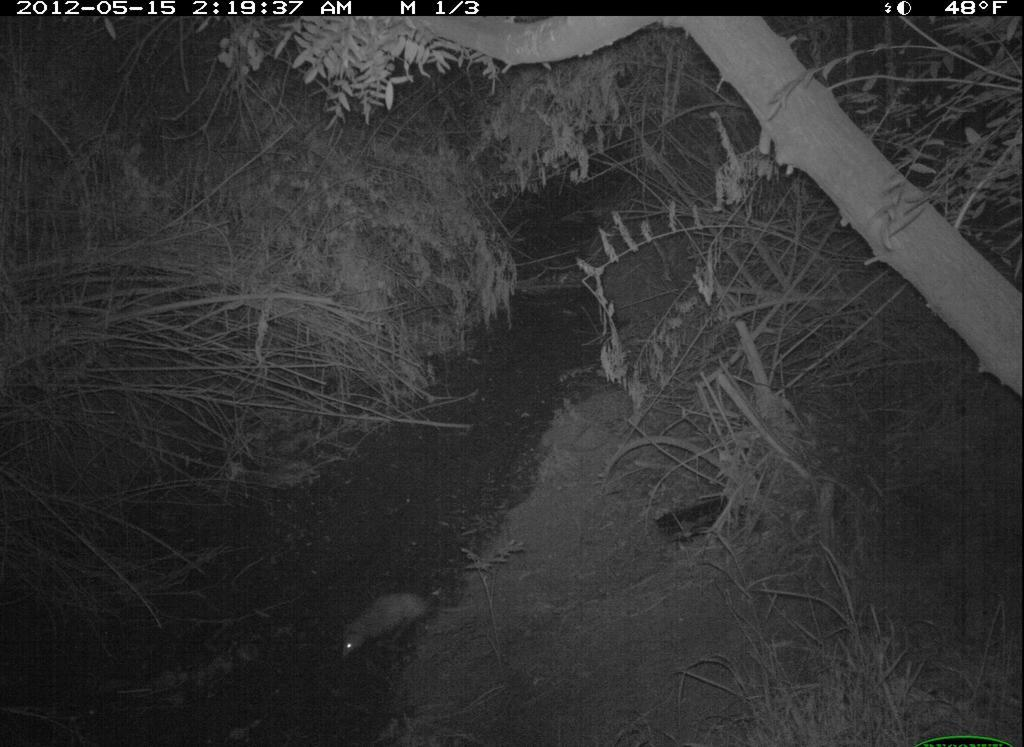opossum: (337, 591, 477, 666)
